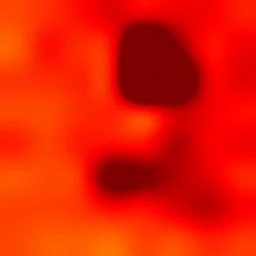person: (100, 142, 222, 215)
